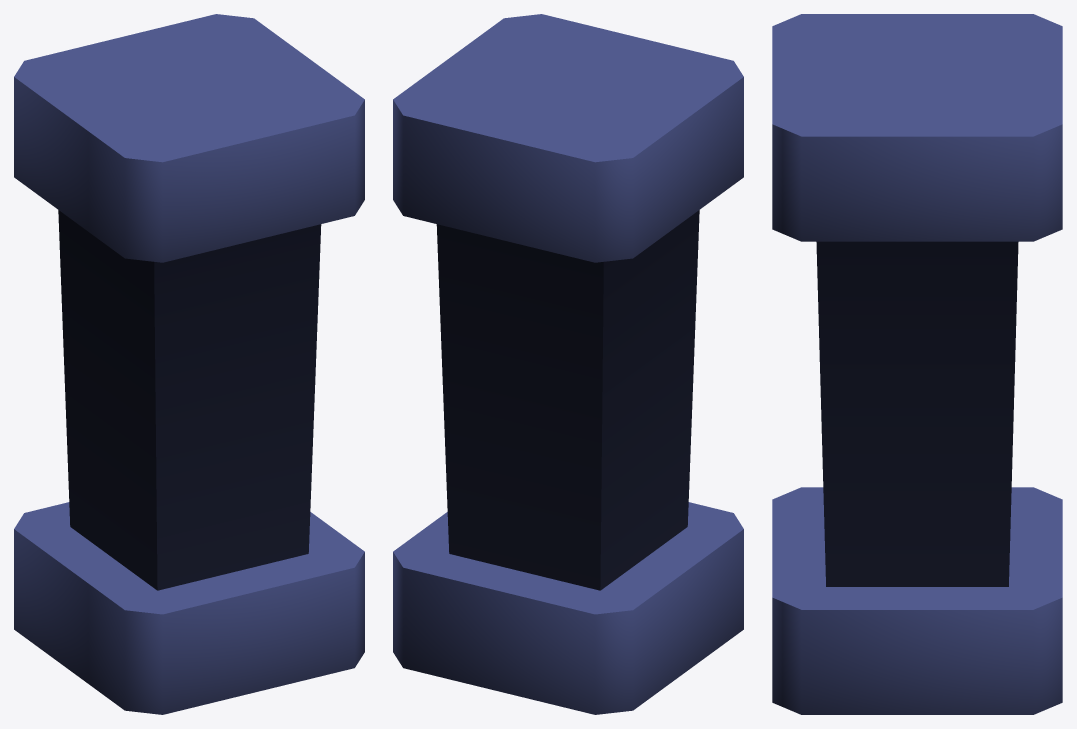
Rendered from column.fbx.
The picture shows the model from 3 angles, left to right: view 1: azimuth 30°, elevation 25°; view 2: azimuth 150°, elevation 25°; view 3: azimuth 270°, elevation 25°; orthographic projection. The views are drawn at different scales.
Visible parts, largest first — view 1: column; view 2: column; view 3: column.
Part boxes in pixels (x1,y1,x2,y2): column: [14, 14, 364, 714]; column: [393, 14, 743, 714]; column: [772, 14, 1062, 714].
Bounding box in the file's own units: 5 × 11 × 5.
